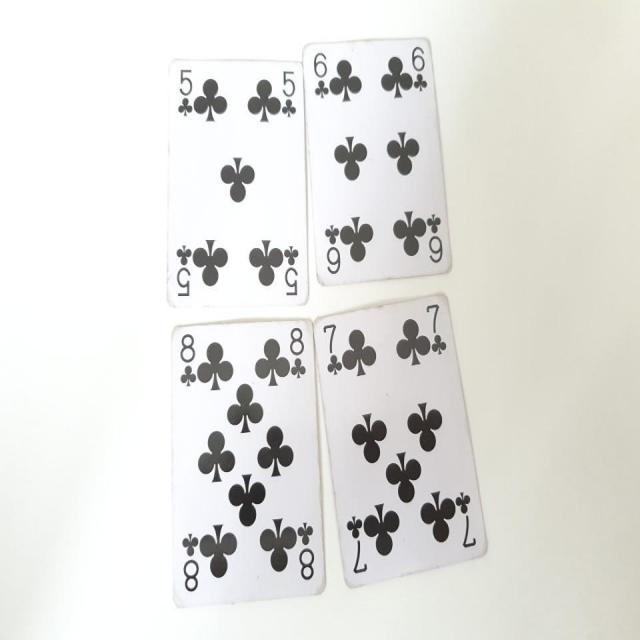5 Trefoils: (163, 57, 310, 308)
6 Trefoils: (302, 37, 455, 287)
7 Trefoils: (313, 289, 489, 586)
8 Trefoils: (170, 318, 328, 612)
